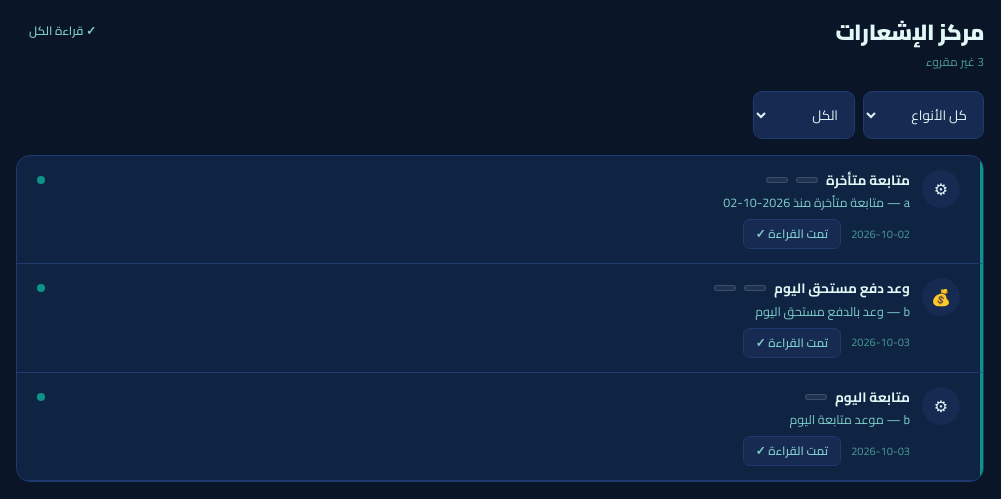
Test: NotificationsPage — derived from reminderService.js (Product Completion Phase 1, Issue 4) › mark-all-read clears every derived notification at once
Expected: the text "3 غير مقروء" is shown, [926,50,984,73]
Click the button "✓ قراءة الكل" at (62, 31), box [16,16,109,46]
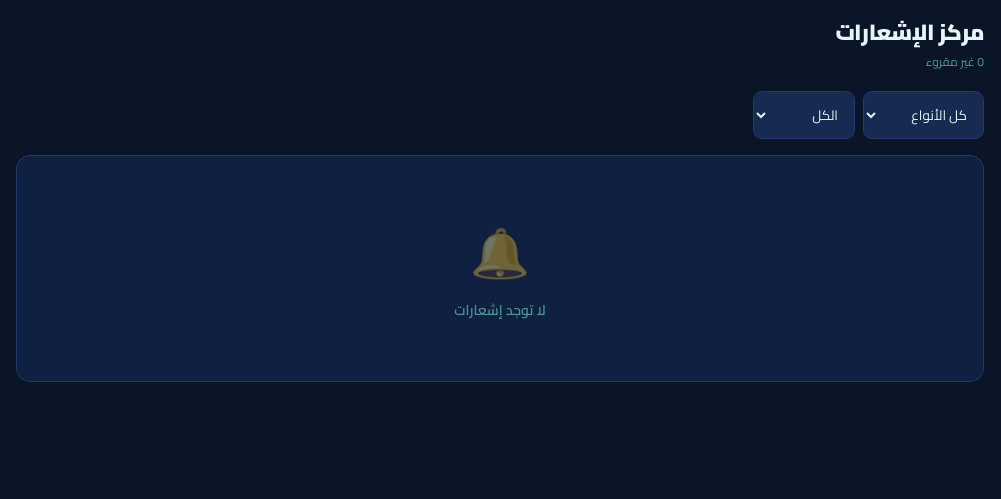
Now the text "0 غير مقروء" is shown, box [926,50,984,73]
